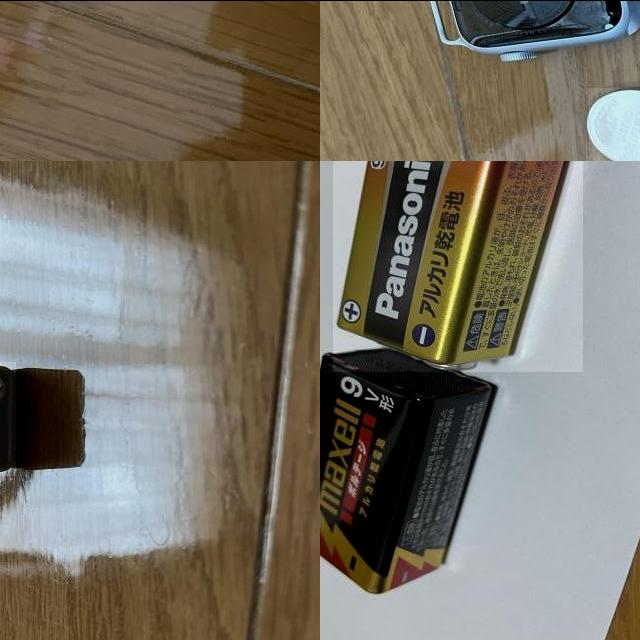9V: (333, 160, 582, 371), (320, 346, 495, 596)
